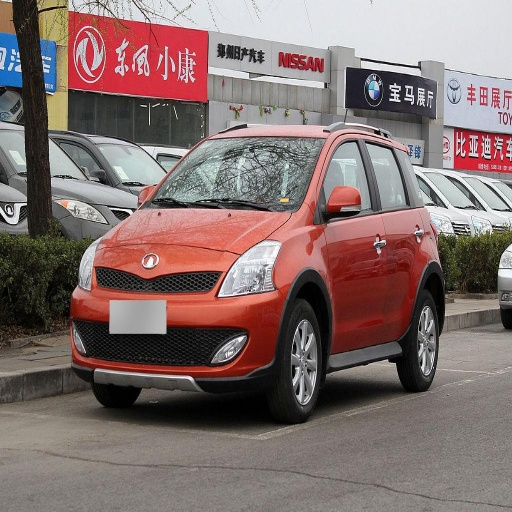front_bumper: (75, 246, 288, 389)
front_glass: (143, 140, 323, 212)
front_left_door: (318, 133, 384, 352)
